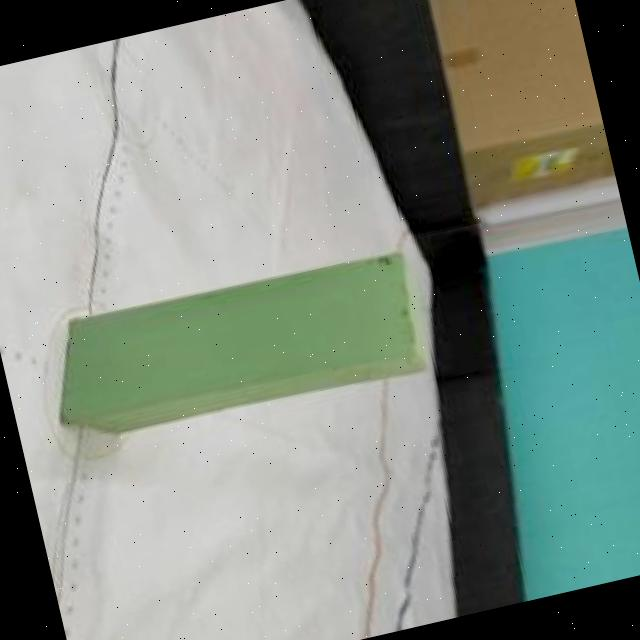greenbox: (34, 236, 448, 457)
